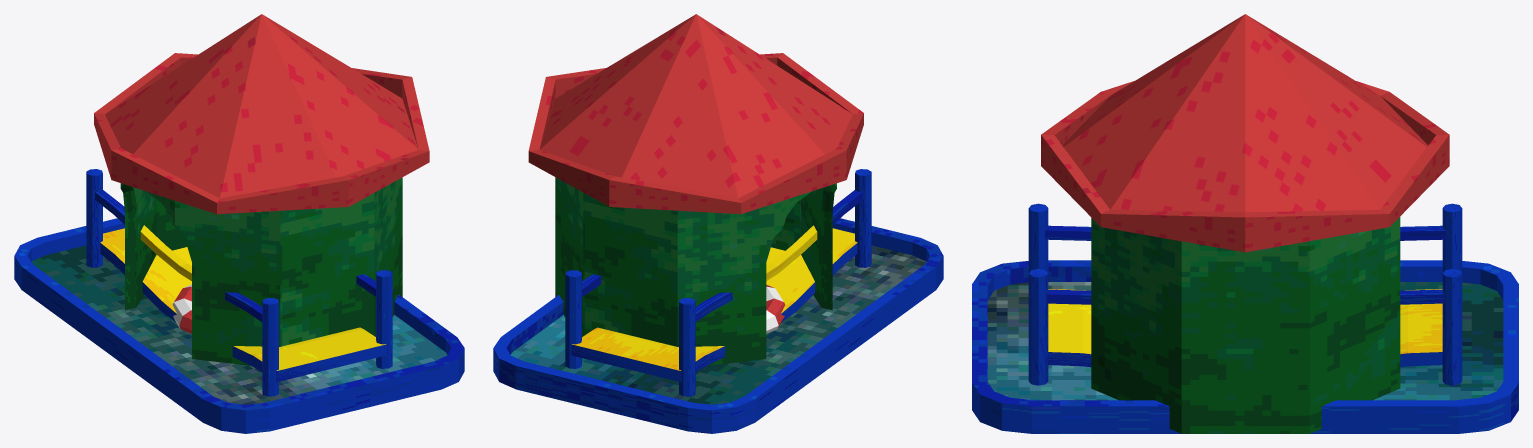
Rendered from Playground.fbx.
3 renders of one model, left to right at view 1: azimuth 30°, elevation 25°; view 2: azimuth 150°, elevation 25°; view 3: azimuth 270°, elevation 25°, orthographic. The views are drawn at different scales.
Parts seen in each view (by area): view 1: NhaDoChoi, BeBoi, CauTreoDoChoi, PhaoBoi; view 2: NhaDoChoi, BeBoi, CauTreoDoChoi, PhaoBoi; view 3: NhaDoChoi, BeBoi, CauTreoDoChoi.
Boxes of the visible parts, <box> form: NhaDoChoi: <box>94,14,429,365</box>; BeBoi: <box>14,218,464,433</box>; CauTreoDoChoi: <box>86,169,392,396</box>; PhaoBoi: <box>172,284,191,333</box>; NhaDoChoi: <box>528,14,863,365</box>; BeBoi: <box>493,218,943,433</box>; CauTreoDoChoi: <box>565,169,871,396</box>; PhaoBoi: <box>766,284,785,333</box>; NhaDoChoi: <box>1041,14,1449,433</box>; BeBoi: <box>972,260,1518,433</box>; CauTreoDoChoi: <box>1028,203,1462,385</box>.
Bounding box in the file's own units: 3.78 × 5.06 × 3.95.
1 material, 1 textured.
